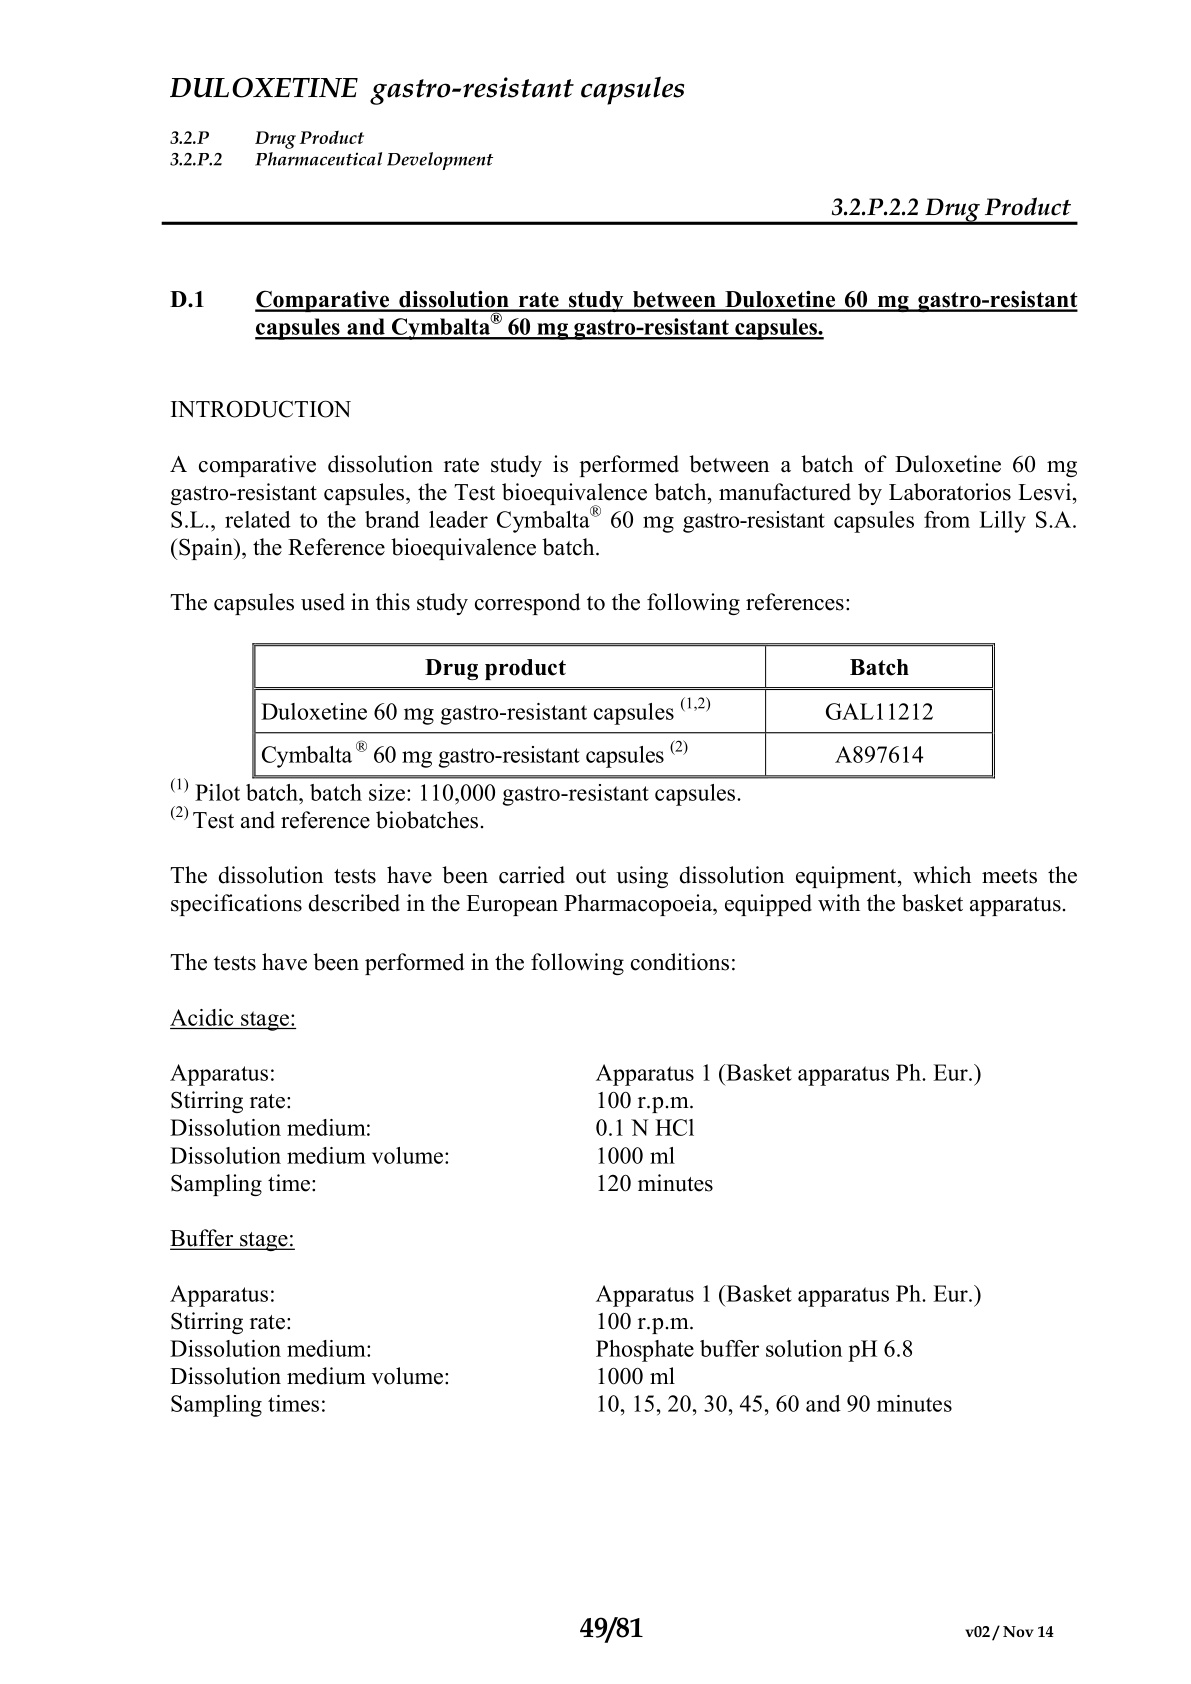full_lined: (253, 642, 996, 780)
nolines: (164, 1005, 989, 1420)
